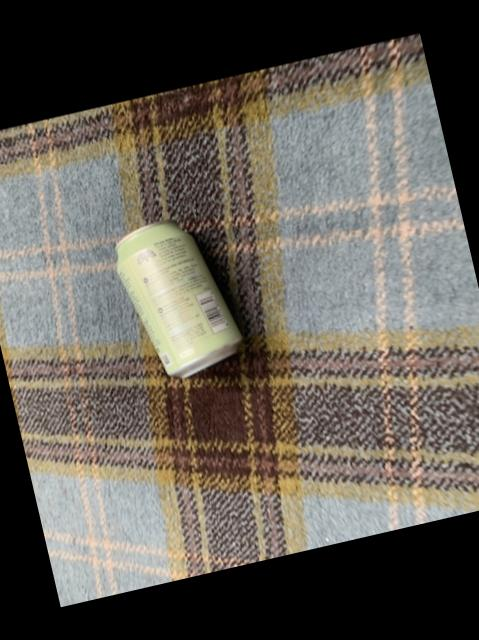metal: (114, 222, 239, 379)
